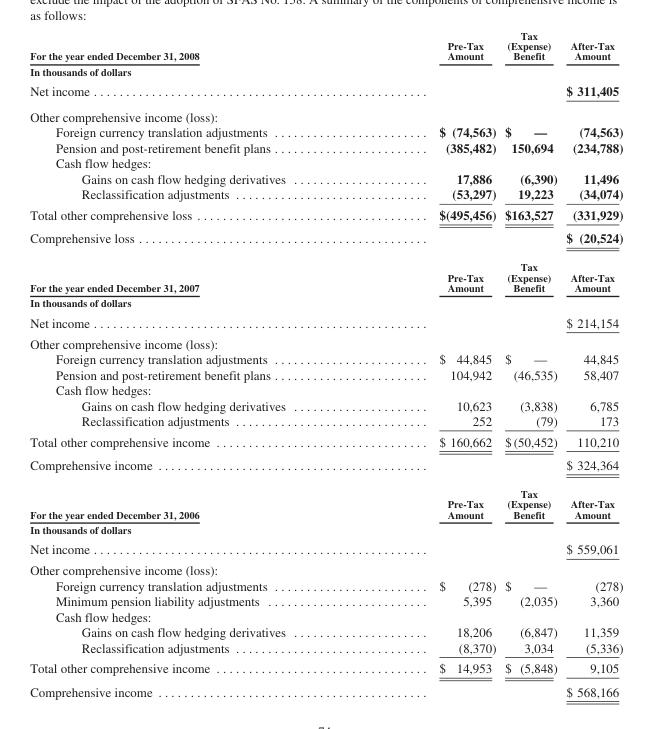table: (29, 29, 622, 698)
table column: (29, 29, 361, 698), (361, 29, 499, 698), (499, 29, 561, 698), (561, 29, 622, 698)
table column header: (29, 29, 622, 63)
table projected row header: (29, 103, 622, 124), (29, 332, 622, 350), (29, 559, 622, 577), (29, 63, 622, 80), (29, 521, 622, 538), (29, 295, 622, 311), (29, 381, 622, 397), (29, 608, 622, 624), (29, 155, 622, 170)
table row: (29, 252, 622, 295), (29, 479, 622, 521), (29, 29, 622, 63), (29, 452, 622, 479), (29, 226, 622, 252), (29, 80, 622, 103), (29, 204, 622, 226), (29, 430, 622, 452), (29, 657, 622, 679), (29, 103, 622, 124), (29, 311, 622, 332), (29, 538, 622, 559), (29, 679, 622, 698), (29, 186, 622, 204), (29, 332, 622, 350), (29, 412, 622, 430), (29, 559, 622, 577), (29, 639, 622, 657), (29, 63, 622, 80), (29, 521, 622, 538), (29, 139, 622, 155), (29, 170, 622, 186), (29, 295, 622, 311), (29, 350, 622, 366), (29, 381, 622, 397), (29, 592, 622, 608), (29, 608, 622, 624), (29, 124, 622, 139), (29, 155, 622, 170), (29, 366, 622, 381), (29, 397, 622, 412), (29, 577, 622, 592), (29, 624, 622, 639)
